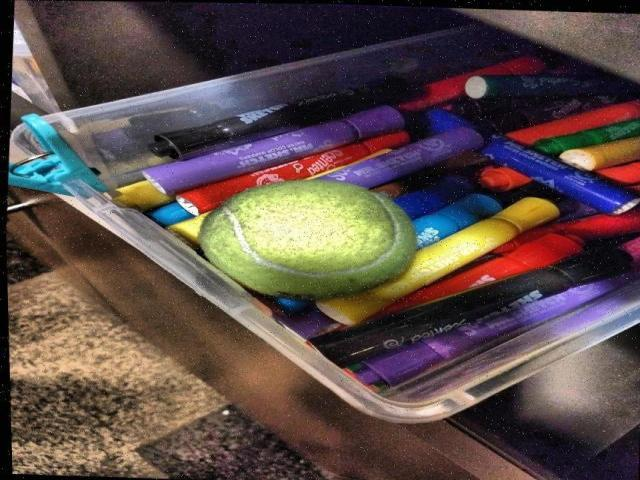tennis-ball: (198, 183, 417, 298)
